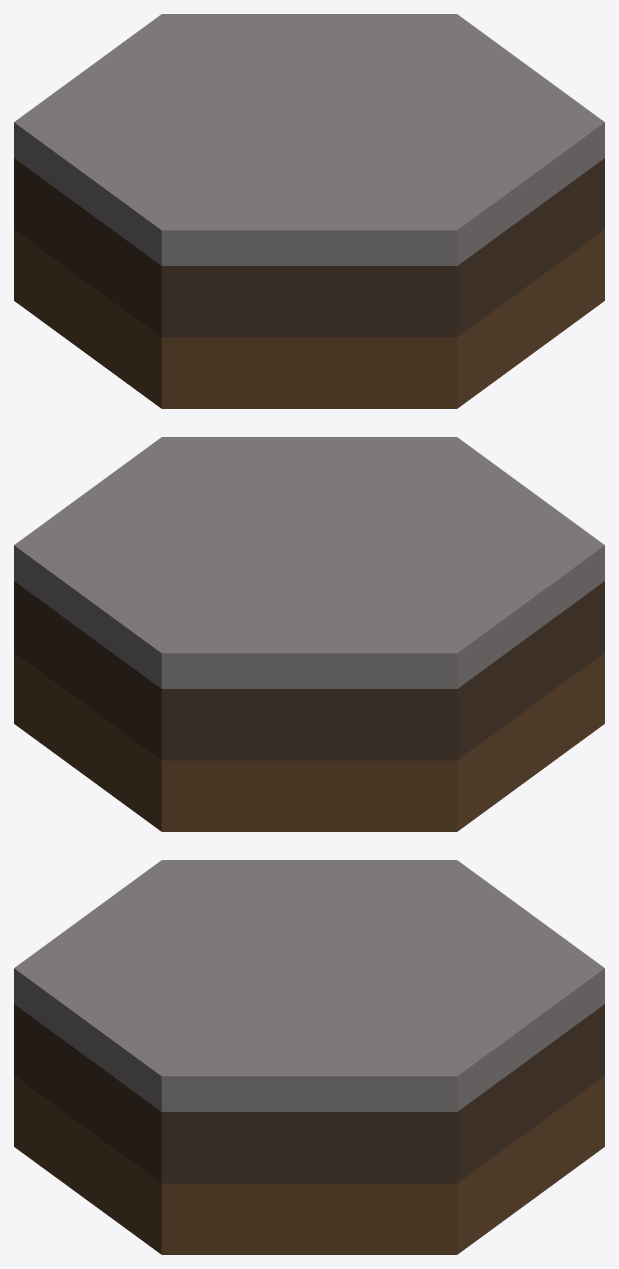
The model's file is hexagon-stone.glb.
3 views of the same model, one above another, from view 1: azimuth 30°, elevation 25°; view 2: azimuth 150°, elevation 25°; view 3: azimuth 270°, elevation 25° (orthographic).
Parts seen in each view (by area): view 1: hexagon-stone; view 2: hexagon-stone; view 3: hexagon-stone.
Part boxes in pixels (x1,y1,x2,y2): hexagon-stone: (14, 14, 604, 408); hexagon-stone: (14, 437, 604, 831); hexagon-stone: (14, 860, 604, 1254).
Bounding box in the file's own units: 25.98 × 10 × 30.
Materials: 1 (1 with a texture image).
